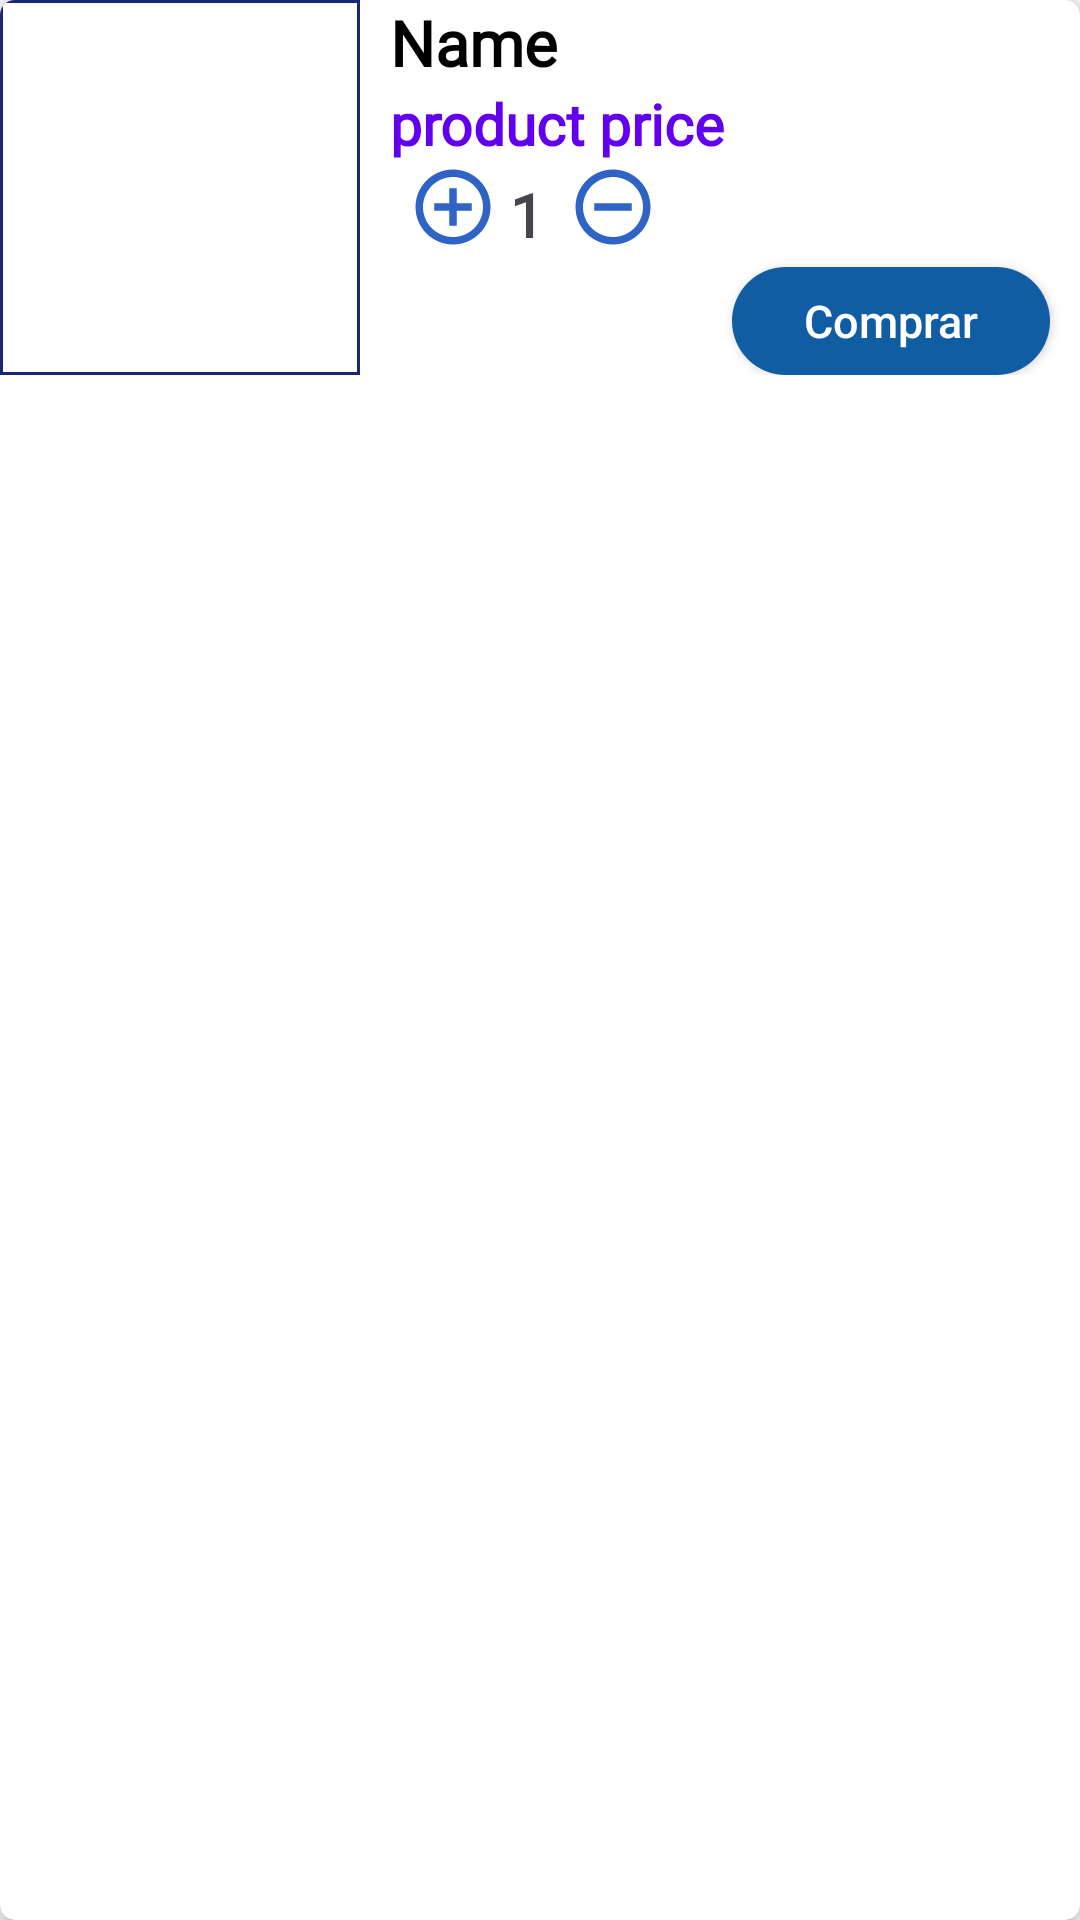

Locate icon controls on the screen. Image size 1080w x 1920h, boxes as bbox=[x1, y1, x2, y2].
add circle: bbox=[415, 169, 491, 245]
remove circle: bbox=[575, 169, 651, 245]
